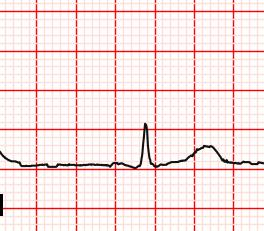LVH: (170, 141, 231, 169)
